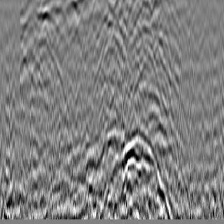cavities: (75, 126, 180, 221)
